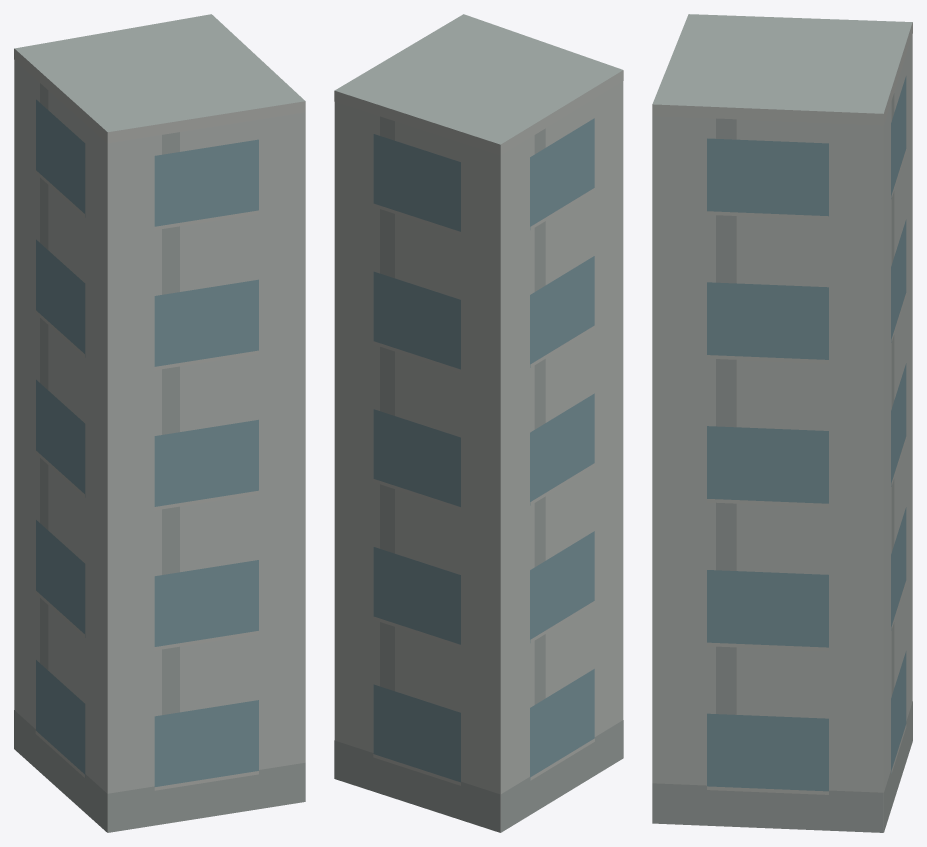
Rendered from survey-upis-32697080.glb.
The picture shows the model from 3 angles, left to right: view 1: azimuth 30°, elevation 25°; view 2: azimuth 150°, elevation 25°; view 3: azimuth 270°, elevation 25°; orthographic projection. The views are drawn at different scales.
Visible parts, largest first — view 1: survey-upis-32697080.tmp; view 2: survey-upis-32697080.tmp; view 3: survey-upis-32697080.tmp.
Part boxes in pixels (<box>): survey-upis-32697080.tmp: <box>14,14,305,832</box>; survey-upis-32697080.tmp: <box>334,14,623,832</box>; survey-upis-32697080.tmp: <box>652,14,912,832</box>.
Size of the model in its own units: 4.55 by 15.25 by 5.01.
